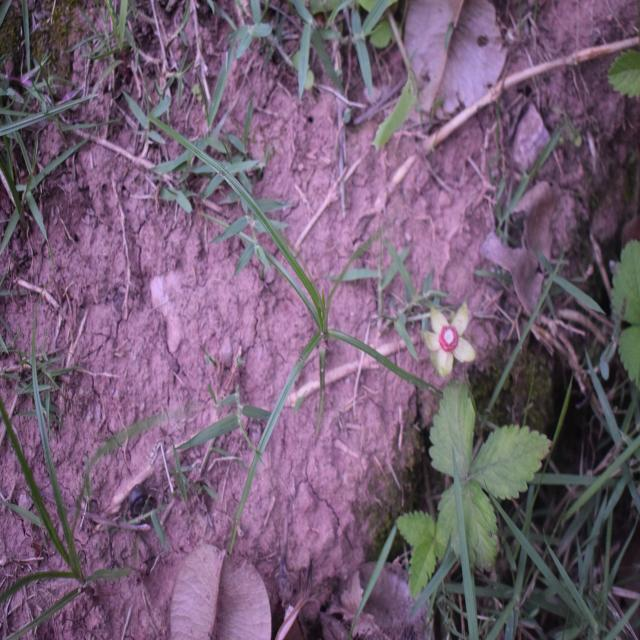sedge: (166, 122, 482, 528)
